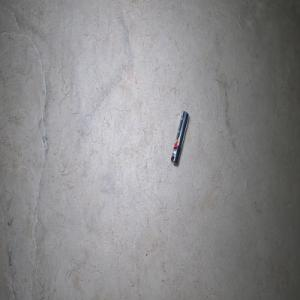Battery: (170, 110, 189, 165)
